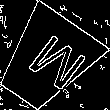M_SW: (11, 27, 82, 95)
